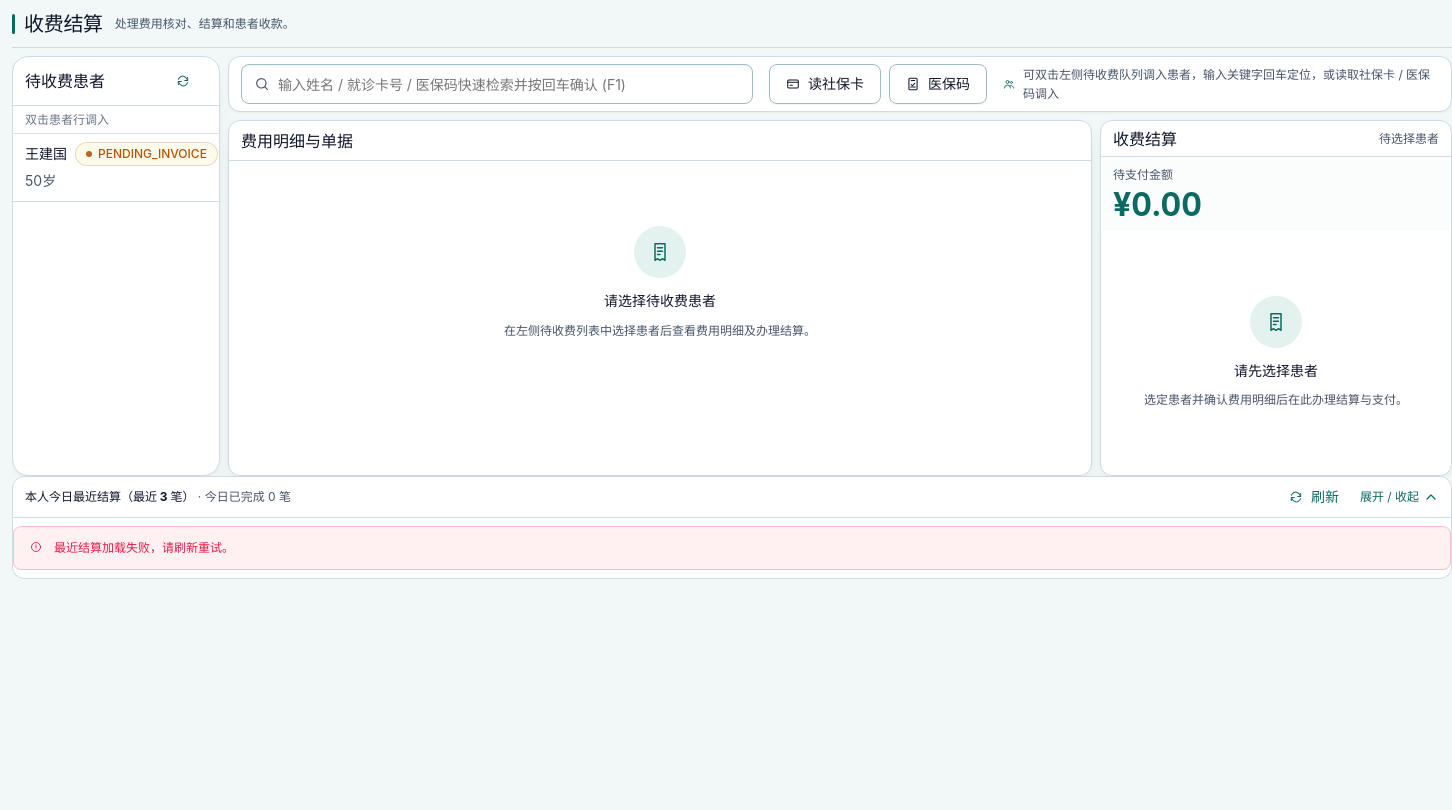
BillingWorkspace deep link › uses one settlement action to create the settlement and start payment
This screenshot has width=1452, height=810.
Step 1. Double-click the button "王建国 PENDING_INVOICE 50岁" → (116, 168), box [13, 134, 219, 202]
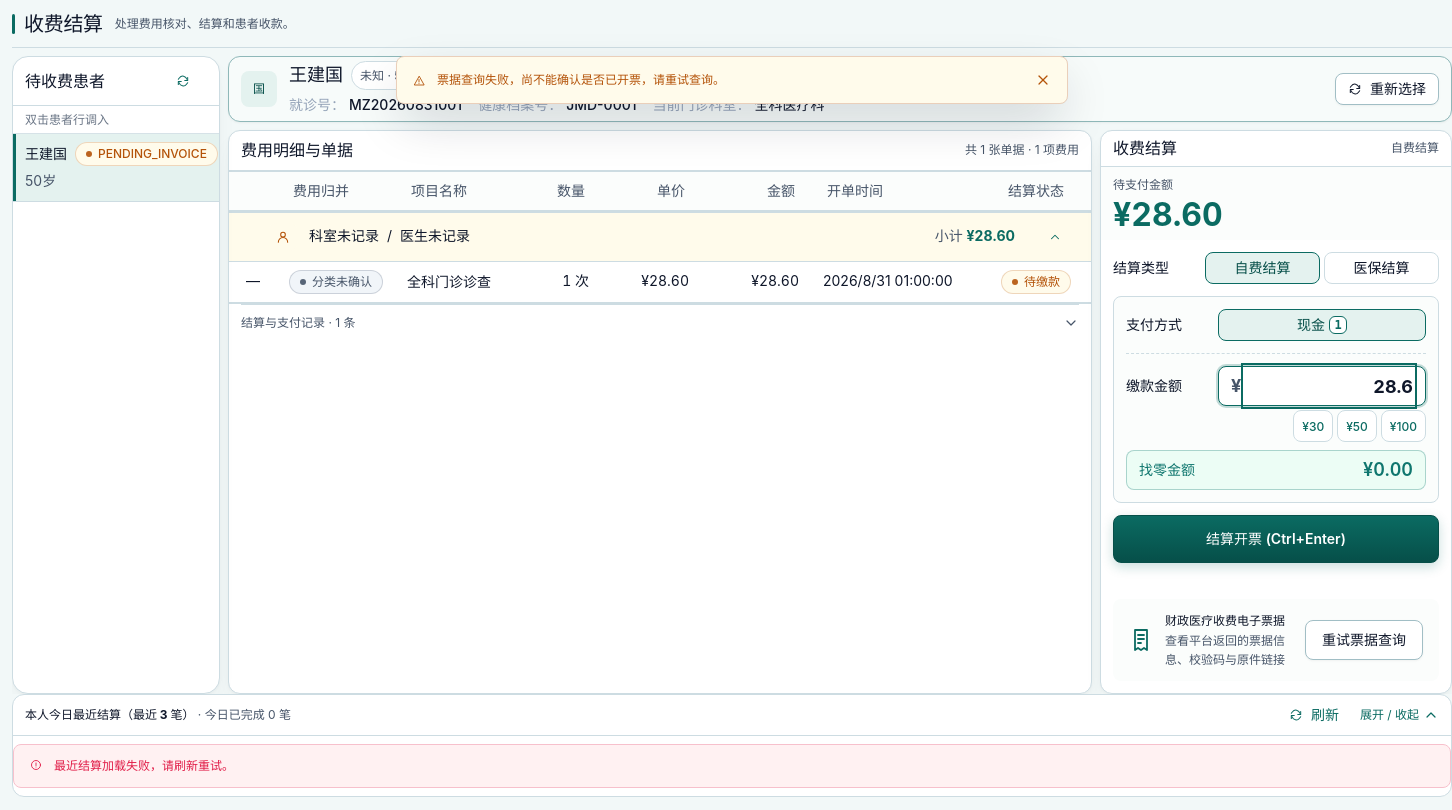
Expected: the element named "结算类型" is shown, [1205, 252, 1439, 284]
Expected: the number field with placeholder "28.6" holds "28.6", [1245, 367, 1413, 405]
Expected: the button "结算开票 (Ctrl+Enter)" is enabled, [1113, 515, 1439, 563]
